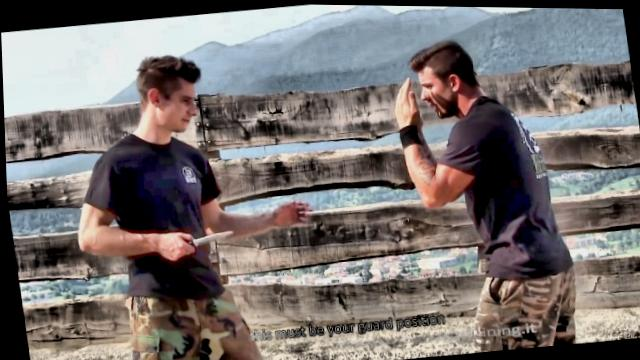knife: (156, 223, 240, 265)
